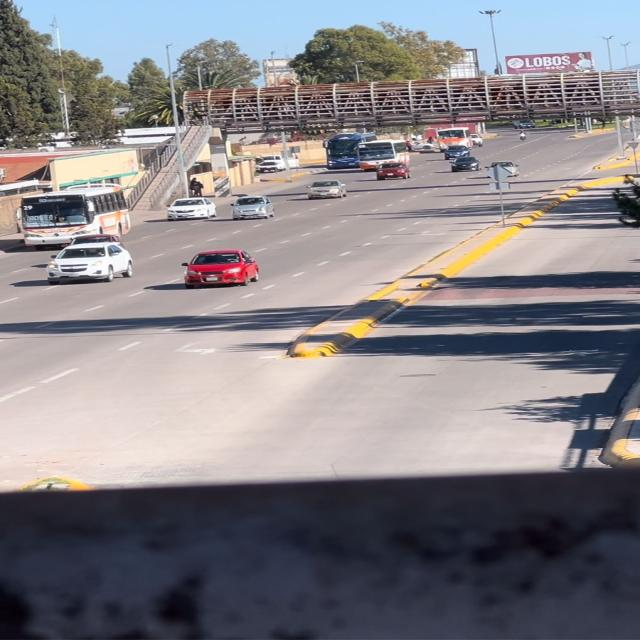Auto: (170, 236, 280, 294), (44, 237, 132, 288), (226, 192, 273, 222), (166, 198, 221, 220), (373, 158, 414, 184), (309, 180, 344, 202), (250, 154, 286, 173), (438, 144, 469, 162), (452, 158, 477, 176)
Autobus: (14, 187, 135, 246), (353, 141, 410, 172)
